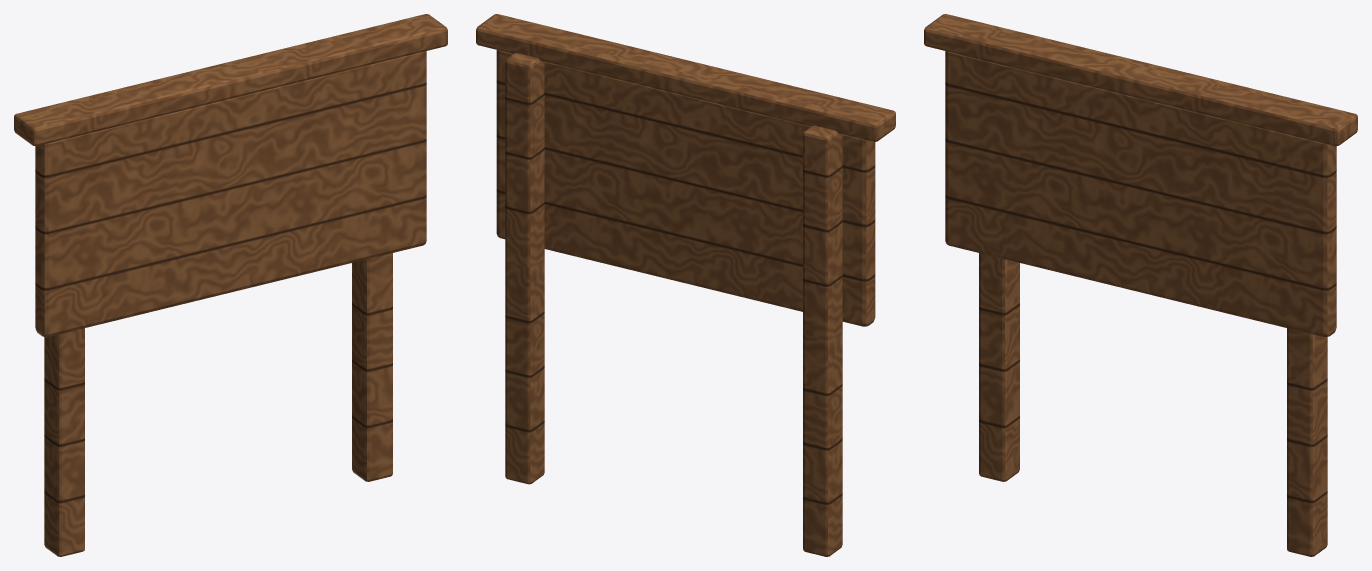
File: Prop_Sign.fbx
3 renders of one model, left to right at view 1: azimuth 30°, elevation 25°; view 2: azimuth 150°, elevation 25°; view 3: azimuth 330°, elevation 25°, orthographic. The views are drawn at different scales.
Parts seen in each view (by area): view 1: Prop_Sign.001; view 2: Prop_Sign.001; view 3: Prop_Sign.001.
Boxes of the visible parts, bbox=[...] form: Prop_Sign.001: bbox=[14, 14, 447, 556]; Prop_Sign.001: bbox=[476, 14, 895, 556]; Prop_Sign.001: bbox=[924, 14, 1357, 556].
Size of the model in its own units: 1.35 by 1.4 by 0.175.
